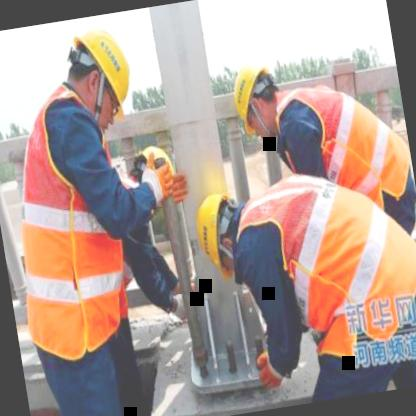helmet: (58, 10, 148, 131), (225, 57, 286, 146), (192, 186, 250, 276), (126, 140, 185, 207)
